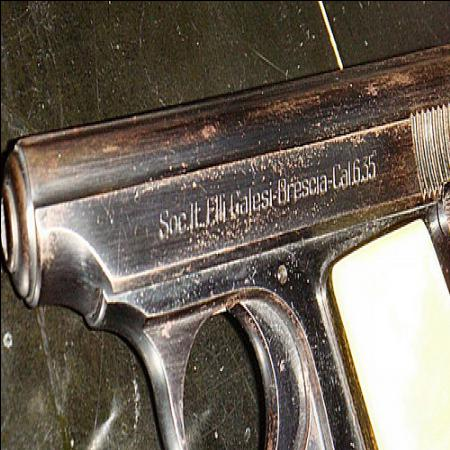Pistol: (1, 43, 449, 448)
